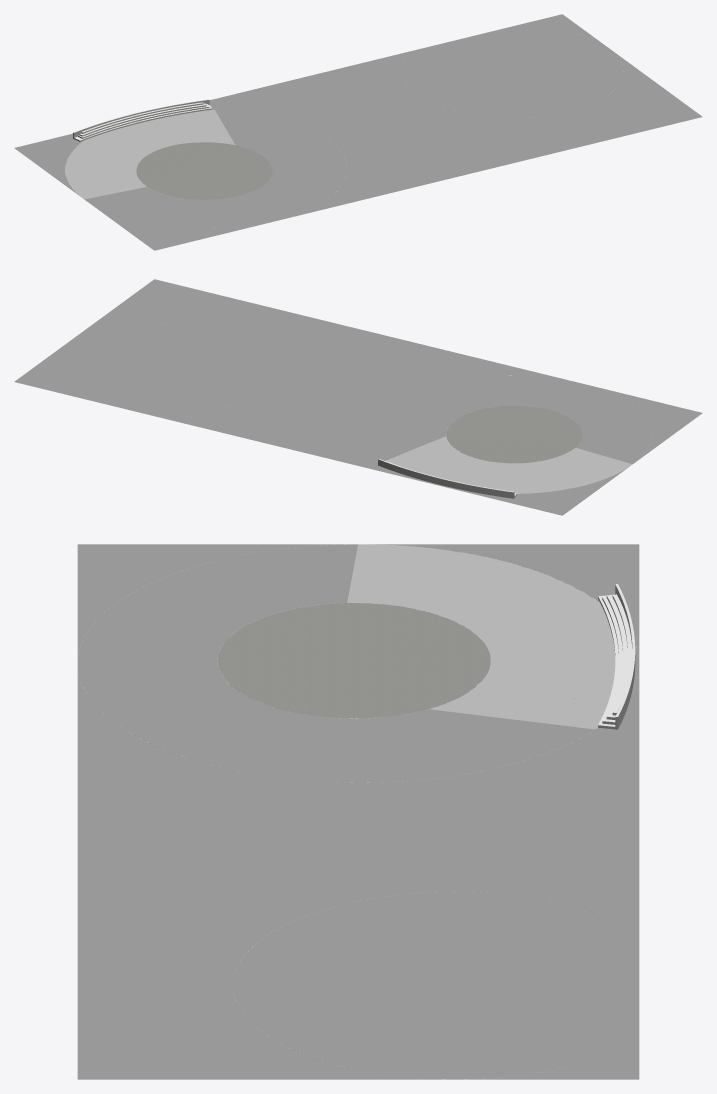
The model's file is coliseo.obj.
3 views of the same model, one above another, from view 1: azimuth 30°, elevation 25°; view 2: azimuth 150°, elevation 25°; view 3: azimuth 270°, elevation 25° (orthographic). The views are drawn at different scales.
Parts seen in each view (by area): view 1: ground_1, room_11_62, room_18_69, room_15_66, room_19_70, room_14_65, room_20_71, room_16_67, room_12_63, room_13_64, room_22_73, room_21_72; view 2: ground_1, room_11_62, room_18_69, wall_1_4, room_19_70, room_15_66, room_14_65, room_20_71, room_16_67, room_12_63, room_22_73, room_13_64 (+1 smaller); view 3: ground_1, room_11_62, room_18_69, room_15_66, room_19_70, room_14_65, room_20_71, room_16_67, room_12_63, room_13_64, room_22_73, room_21_72 (+1 smaller).
Boxes of the visible parts, left/top/right/bottom form: ground_1: left=14, top=14, right=702, bottom=250; room_11_62: left=136, top=142, right=272, bottom=199; room_18_69: left=65, top=139, right=147, bottom=170; room_15_66: left=154, top=114, right=215, bottom=142; room_19_70: left=66, top=155, right=147, bottom=176; room_14_65: left=131, top=120, right=186, bottom=148; room_20_71: left=65, top=170, right=137, bottom=188; room_16_67: left=180, top=110, right=226, bottom=143; room_12_63: left=87, top=133, right=161, bottom=154; room_13_64: left=104, top=125, right=161, bottom=148; room_22_73: left=73, top=187, right=145, bottom=199; room_21_72: left=74, top=177, right=146, bottom=188; ground_1: left=14, top=279, right=702, bottom=515; room_11_62: left=446, top=405, right=582, bottom=463; room_18_69: left=508, top=463, right=581, bottom=493; wall_1_4: left=378, top=459, right=514, bottom=498; room_19_70: left=510, top=456, right=582, bottom=485; room_15_66: left=413, top=444, right=465, bottom=476; room_14_65: left=437, top=455, right=488, bottom=482; room_20_71: left=560, top=456, right=615, bottom=485; room_16_67: left=392, top=440, right=449, bottom=470; room_12_63: left=488, top=461, right=509, bottom=490; room_22_73: left=576, top=448, right=632, bottom=473; room_13_64: left=460, top=462, right=488, bottom=487; ground_1: left=77, top=544, right=639, bottom=1079; room_11_62: left=218, top=603, right=490, bottom=718; room_18_69: left=477, top=559, right=601, bottom=635; room_15_66: left=459, top=675, right=614, bottom=698; room_19_70: left=397, top=559, right=496, bottom=635; room_14_65: left=486, top=652, right=615, bottom=675; room_20_71: left=396, top=546, right=496, bottom=605; room_16_67: left=444, top=698, right=609, bottom=721; room_12_63: left=478, top=606, right=608, bottom=652; room_13_64: left=491, top=624, right=614, bottom=652; room_22_73: left=347, top=544, right=413, bottom=602; room_21_72: left=347, top=547, right=413, bottom=605.
Size of the model in its own units: 22659 by 250 by 10051.
